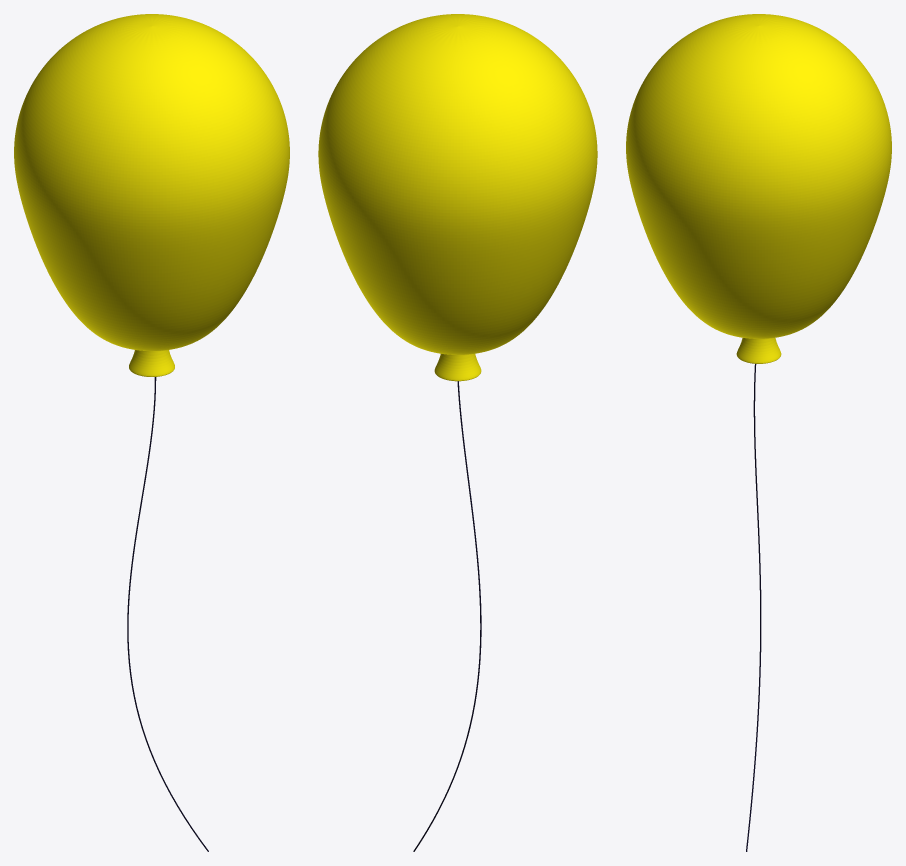
Rendered from Balloon_yellow.fbx.
The picture shows the model from 3 angles, left to right: view 1: azimuth 30°, elevation 25°; view 2: azimuth 150°, elevation 25°; view 3: azimuth 270°, elevation 25°; orthographic projection. The views are drawn at different scales.
Parts seen in each view (by area): view 1: Sphere.002, NurbsPath.002; view 2: Sphere.002, NurbsPath.002; view 3: Sphere.002, NurbsPath.002.
Boxes of the visible parts, x1,y1,x2,y2 form: Sphere.002: (14, 14, 289, 376); NurbsPath.002: (127, 377, 208, 851); Sphere.002: (318, 14, 597, 381); NurbsPath.002: (413, 381, 481, 851); Sphere.002: (626, 14, 891, 363); NurbsPath.002: (746, 364, 761, 851).
Bounding box in the file's own units: 197 × 658 × 197.
